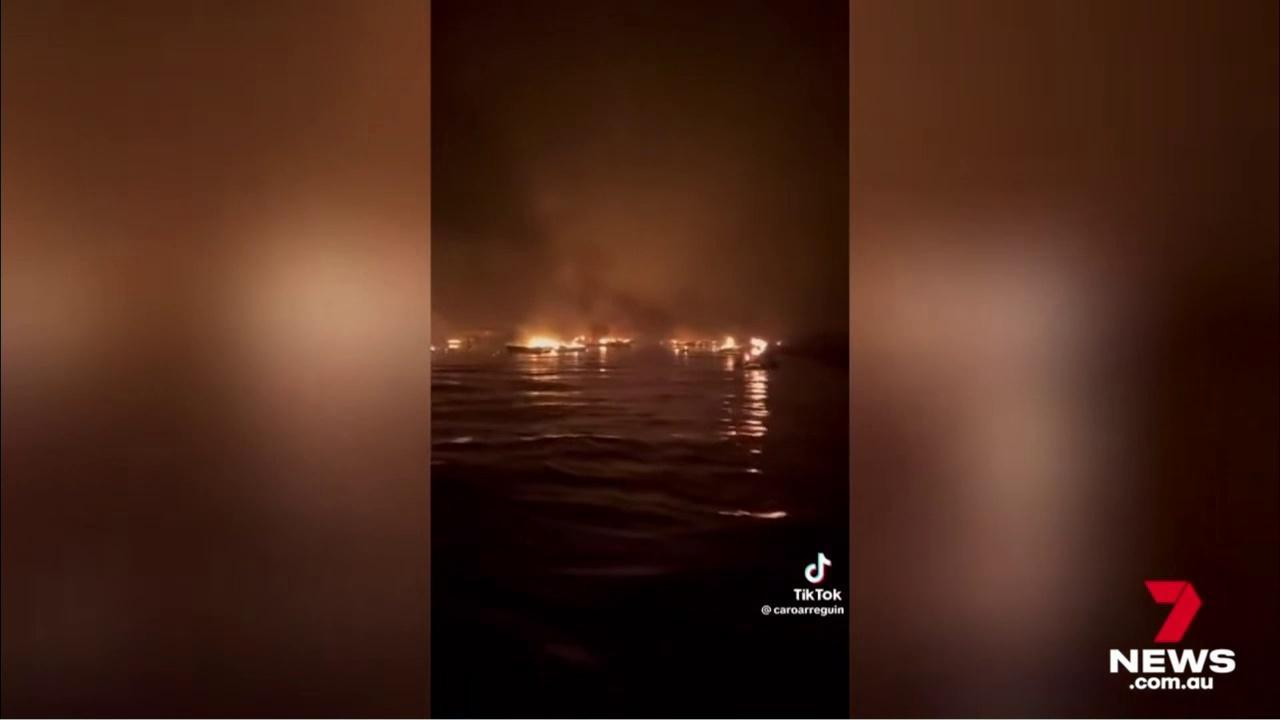fire: (522, 328, 588, 349), (671, 335, 744, 351), (744, 336, 768, 364), (598, 333, 633, 347), (445, 336, 463, 351), (430, 345, 439, 352), (776, 339, 783, 345)
smoke: (432, 0, 849, 343)
